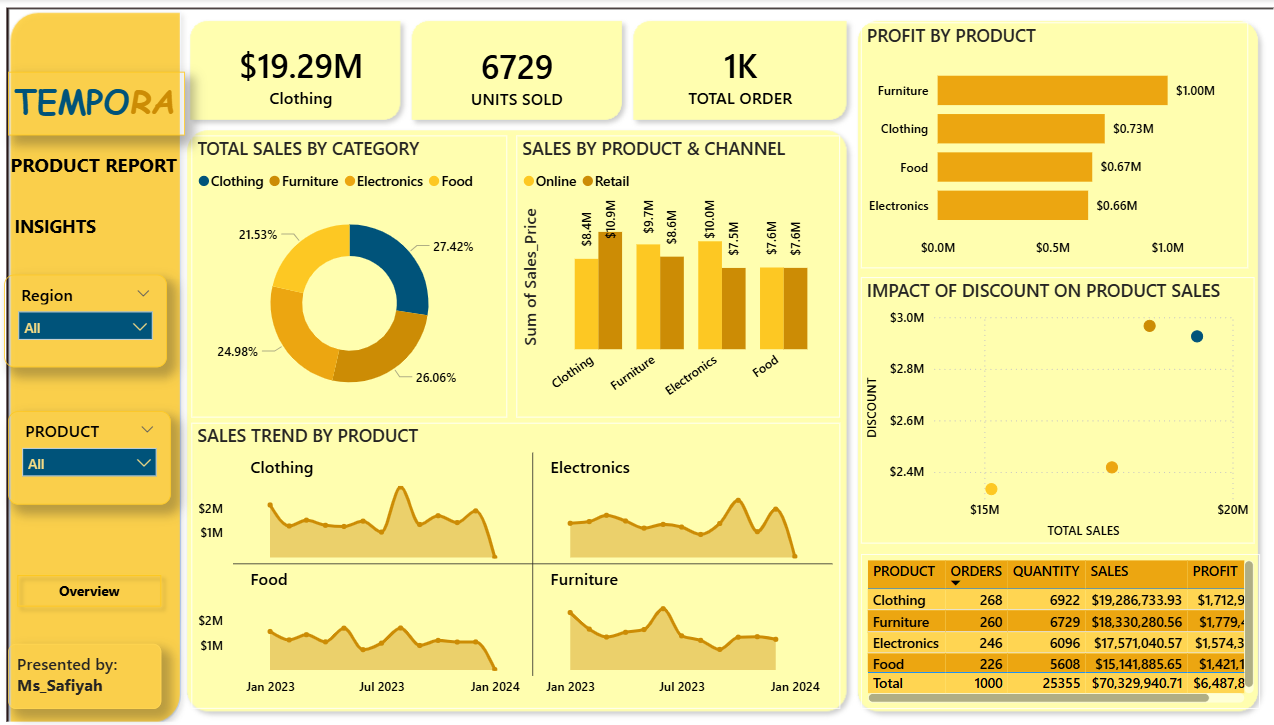

Layout of this report page (visuals, bound fields, positions):
{"tool":"powerbi","page":{"name":"Product Report","canvas":[1280,720],"ordinal":1},"visuals":[{"type":"shape","box":[194.8,22.9,966.2,672.2],"z":0,"group":"g1"},{"type":"lineChart","title":"SALES TREND BY PRODUCT","fields":{"Category":["sales_data.Sale_Date.Variation.Date Hierarchy.Year","sales_data.Sale_Date.Variation.Date Hierarchy.Quarter","sales_data.Sale_Date.Variation.Date Hierarchy.Month"],"Rows":["sales_data.Product_Category"],"Y":["Sum(sales_data.Sales_Price)"]},"box":[201.1,415,635.2,280.1],"z":0},{"type":"textbox","box":[229.2,42,742.2,635.2],"z":1000,"group":"g1"},{"type":"scatterChart","title":"IMPACT OF DISCOUNT ON PRODUCT SALES","fields":{"Category":["sales_data.Product_Category"],"X":["Sum(sales_data.Sales_Price)"],"Y":["Sum(sales_data.Discount_price)"]},"box":[856.8,272.4,385.7,261],"z":1000},{"type":"actionButton","box":[1033.7,30.5,100.6,39.5],"z":2000,"group":"g1"},{"type":"tableEx","fields":{"Values":["sales_data.Product_Category","CountNonNull(sales_data.Product_ID)","Sum(sales_data.Quantity_Sold)","Sum(sales_data.Sales_Price)","Sum(sales_data.Profit)"]},"box":[856.8,543.6,390.8,151.5],"z":2000},{"type":"clusteredColumnChart","title":"SALES BY PRODUCT & CHANNEL ","fields":{"Category":["sales_data.Product_Category"],"Series":["sales_data.Sales_Channel"],"Y":["Sum(sales_data.Sales_Price)"]},"box":[519.4,133.7,317,276.2],"z":3000},{"type":"clusteredBarChart","title":"PROFIT BY PRODUCT","fields":{"Category":["sales_data.Product_Category"],"Y":["Sum(sales_data.Profit)"]},"box":[856.8,22.9,379.4,240.6],"z":4000},{"type":"donutChart","title":"TOTAL SALES BY CATEGORY","fields":{"Category":["sales_data.Product_Category"],"Y":["Sum(sales_data.Sales_Price)"]},"box":[201.1,133.7,309.3,276.2],"z":5000},{"type":"PBI_CV_7B952816_A48F_49B4_9E13_15E3BB2C0337","fields":{"Values":["Sum(sales_data.Sales_Price)"],"category":["sales_data.Product_Category"]},"box":[213,23.2,191.4,91.1],"z":6000},{"type":"PBI_CV_7B952816_A48F_49B4_9E13_15E3BB2C0337","fields":{"Values":["Sum(sales_data.Quantity_Sold)"]},"box":[419.9,24.7,199.2,91.1],"z":7000},{"type":"PBI_CV_7B952816_A48F_49B4_9E13_15E3BB2C0337","fields":{"Values":["CountNonNull(sales_data.Product_ID)"]},"box":[640.3,22.9,196,91.7],"z":8000},{"type":"textbox","box":[21.6,71.3,173,62.4],"z":9000},{"type":"slicer","fields":{"Values":["sales_data.Region"]},"box":[17.8,269.9,159.1,90.4],"z":10000},{"type":"slicer","fields":{"Values":["sales_data.Product_Category"]},"box":[21.6,403.6,159.1,91.7],"z":11000},{"type":"textbox","box":[21.6,631.4,150.2,63.7],"z":12000},{"type":"textbox","box":[19.1,143.9,174.4,42],"z":13000},{"type":"pageNavigator","box":[21.6,555,159.1,49.6],"z":14000},{"type":"group","id":"g1","title":"INSIGHTS","box":[194.8,22.9,966.2,672.2],"z":15000},{"type":"actionButton","box":[17.8,202.4,157.9,39.5],"z":16000}]}

Visuals, with their boxes in screenshot pixels (x1, y1, x2, y2), scaled from the page's 1280x720 canvas onto the 1274x725 screenshot:
shape: bbox=[194, 23, 1156, 700]
"SALES TREND BY PRODUCT" lineChart: bbox=[200, 418, 832, 700]
textbox: bbox=[228, 42, 967, 682]
"IMPACT OF DISCOUNT ON PRODUCT SALES" scatterChart: bbox=[853, 274, 1237, 537]
actionButton: bbox=[1029, 31, 1129, 70]
tableEx - sales_data.Product_Category x CountNonNull(sales_data.Product_ID): bbox=[853, 547, 1242, 700]
"SALES BY PRODUCT & CHANNEL " clusteredColumnChart: bbox=[517, 135, 832, 413]
"PROFIT BY PRODUCT" clusteredBarChart: bbox=[853, 23, 1230, 265]
"TOTAL SALES BY CATEGORY" donutChart: bbox=[200, 135, 508, 413]
PBI_CV_7B952816_A48F_49B4_9E13_15E3BB2C0337 - Sum(sales_data.Sales_Price) x sales_data.Product_Category: bbox=[212, 23, 403, 115]
PBI_CV_7B952816_A48F_49B4_9E13_15E3BB2C0337 - Sum(sales_data.Quantity_Sold): bbox=[418, 25, 616, 117]
PBI_CV_7B952816_A48F_49B4_9E13_15E3BB2C0337 - CountNonNull(sales_data.Product_ID): bbox=[637, 23, 832, 115]
textbox: bbox=[21, 72, 194, 135]
slicer - sales_data.Region: bbox=[18, 272, 176, 363]
slicer - sales_data.Product_Category: bbox=[21, 406, 180, 499]
textbox: bbox=[21, 636, 171, 700]
textbox: bbox=[19, 145, 193, 187]
pageNavigator: bbox=[21, 559, 180, 609]
"INSIGHTS" group: bbox=[194, 23, 1156, 700]
actionButton: bbox=[18, 204, 175, 244]
